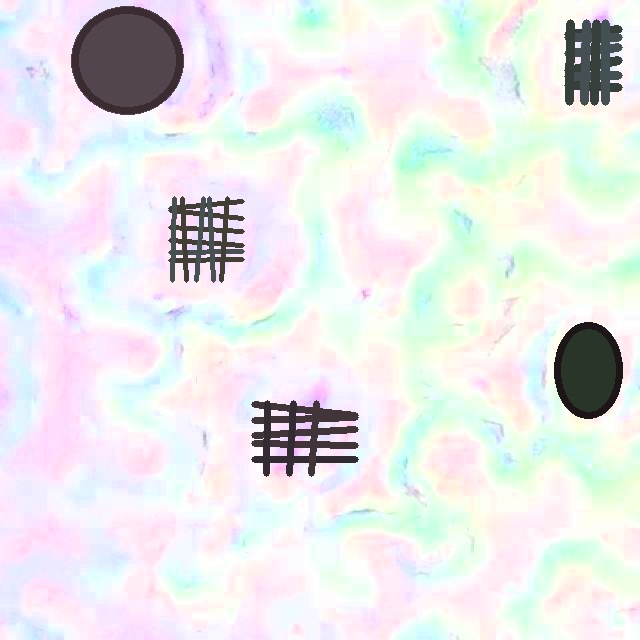close: (553, 322, 622, 418), (169, 196, 244, 282)
open: (71, 6, 183, 115), (251, 400, 358, 476), (564, 19, 622, 105)
